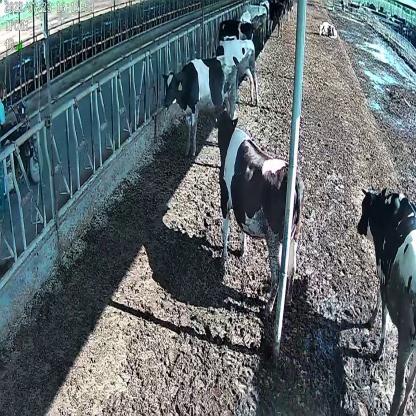cow: (214, 110, 304, 311), (162, 54, 238, 160), (212, 37, 260, 108), (317, 22, 339, 41)
